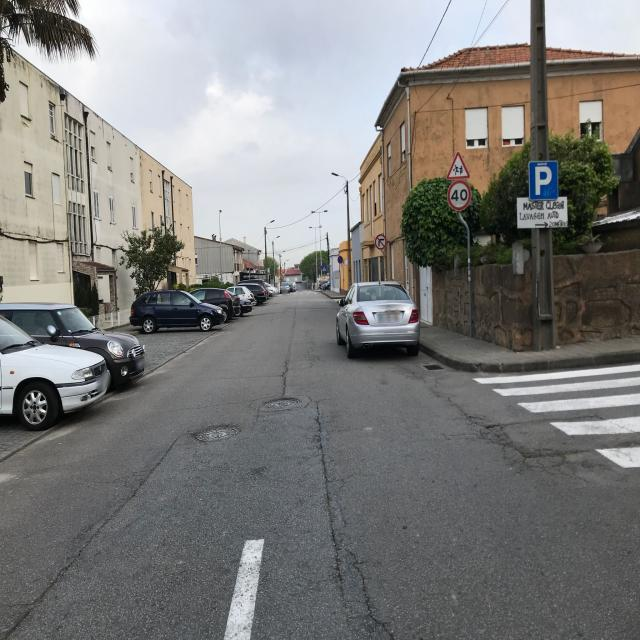forb_stopping: (337, 256, 343, 264)
